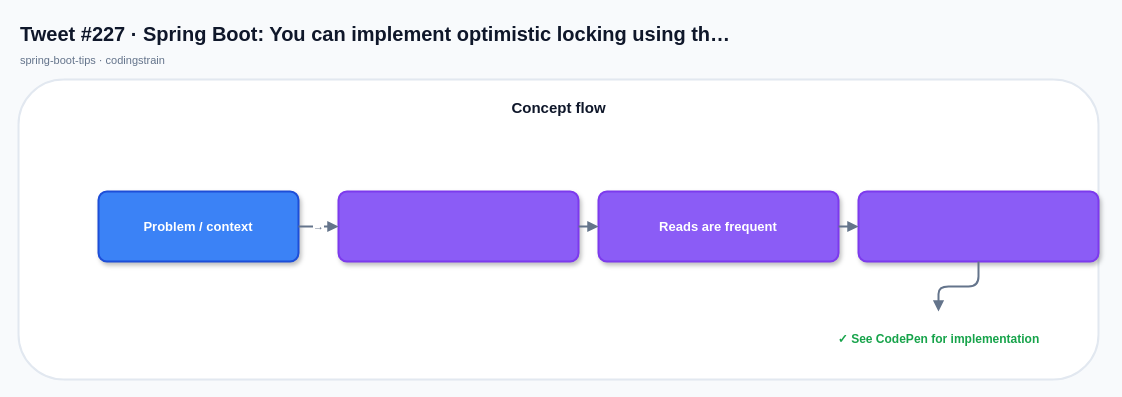
Image size: 1122x397. Some labels were removed from this diagram. The shapes that lost their labels are listed below. From the top down, each one's centre as x and y in pixels, then its label:
At pixel 459 227: "Ideal when:".
At pixel 979 227: "Writes are relatively rare".
